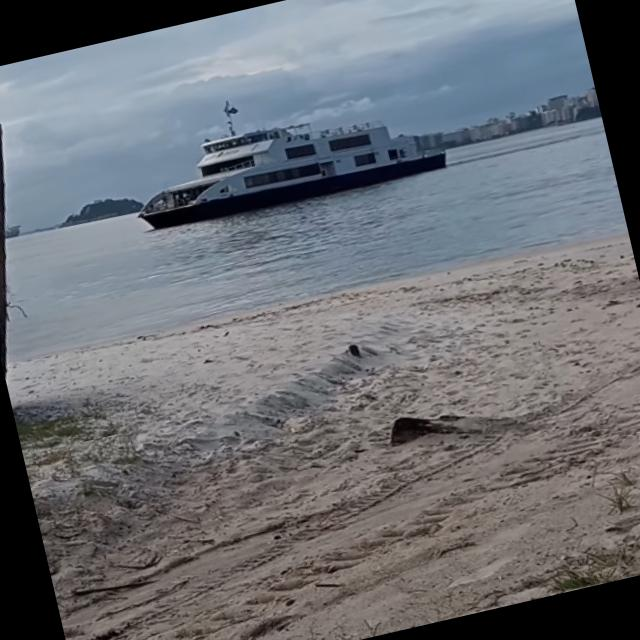Passenger: (138, 101, 445, 227)
